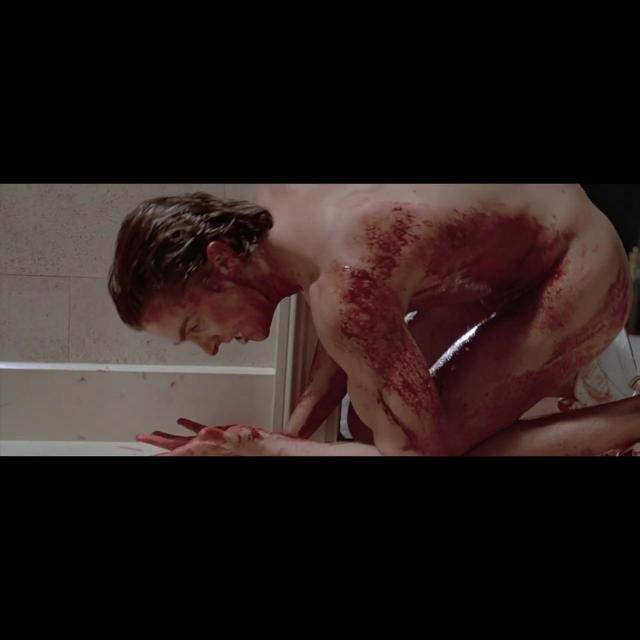blood: (307, 201, 632, 454), (141, 239, 291, 355), (138, 418, 279, 456), (294, 342, 336, 415)
